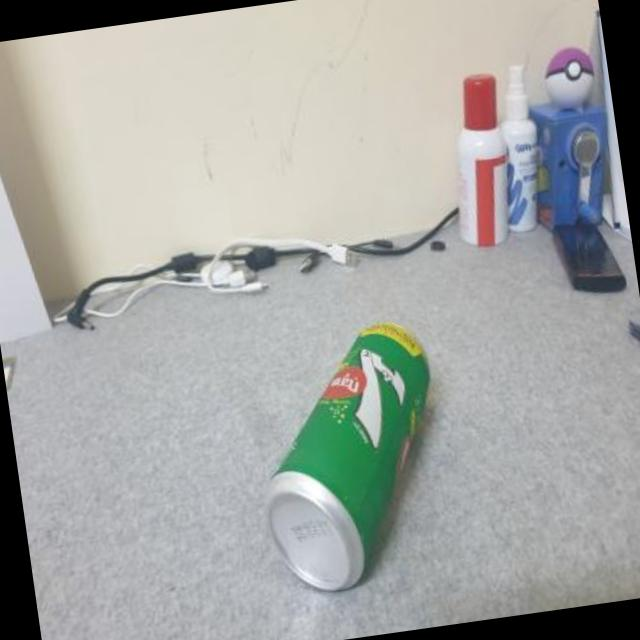metal: (270, 321, 431, 587)
